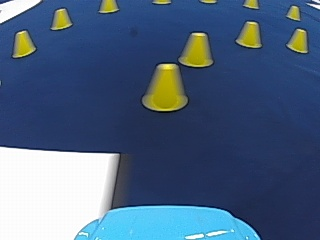cone: (143, 63, 187, 111), (179, 31, 214, 67), (235, 20, 262, 48), (12, 29, 35, 57), (286, 27, 308, 53), (50, 7, 72, 30), (99, 0, 118, 13), (286, 4, 300, 20), (243, 0, 258, 9)
